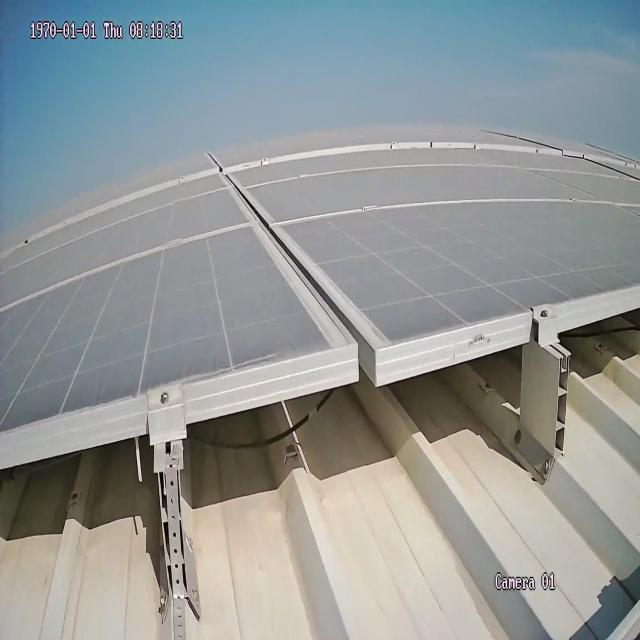interior panel: (223, 185, 388, 344)
outher panel: (0, 277, 640, 640)
